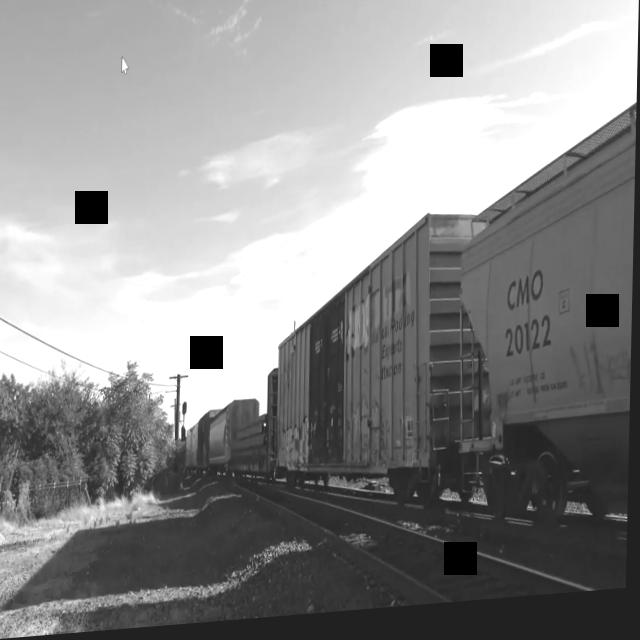boxcar: (276, 212, 481, 530)
cargo: (231, 415, 270, 464)
flatcar_bulkhead: (229, 369, 281, 488)
hopper: (449, 62, 638, 571)
